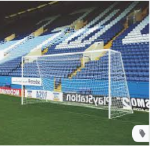goals: (21, 48, 135, 119)
